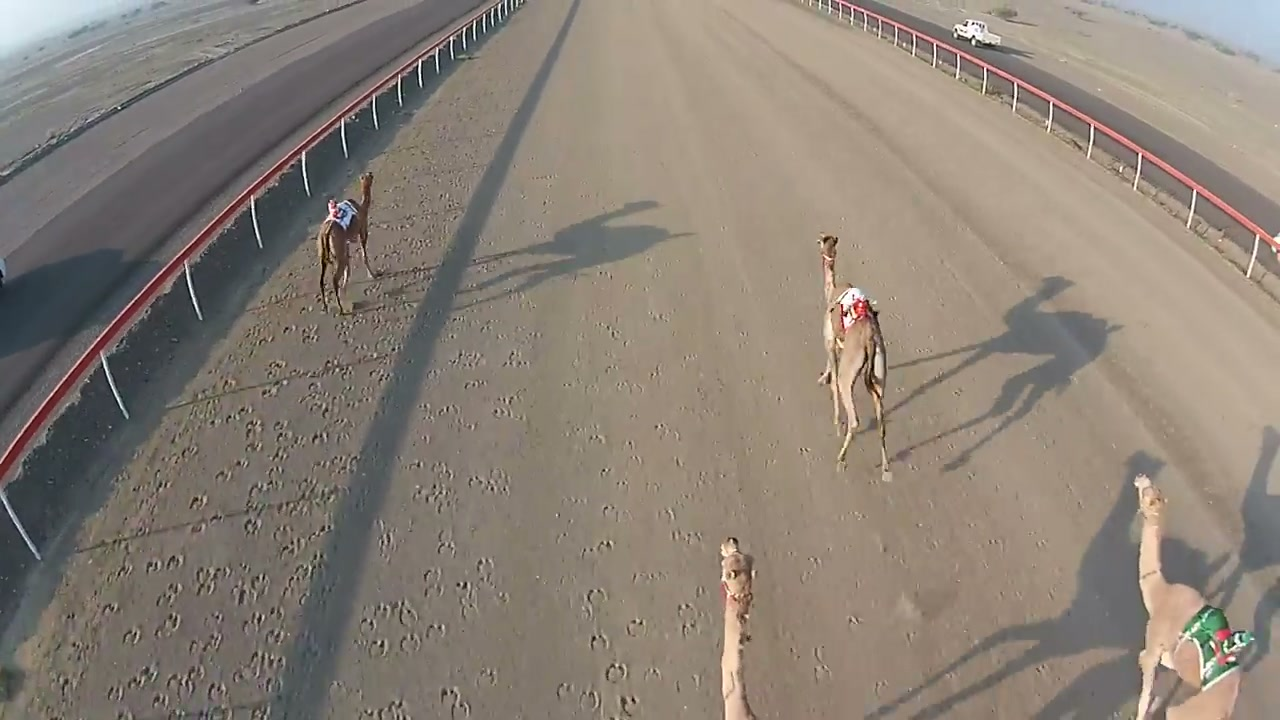animal_footprint: (35, 298, 384, 708), (338, 286, 524, 719)
